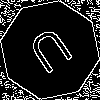U: (25, 25, 81, 83)
